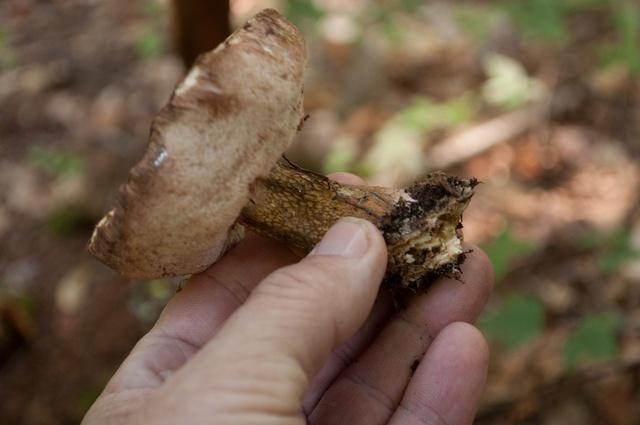poisonous_mushroom: (85, 7, 482, 292)
